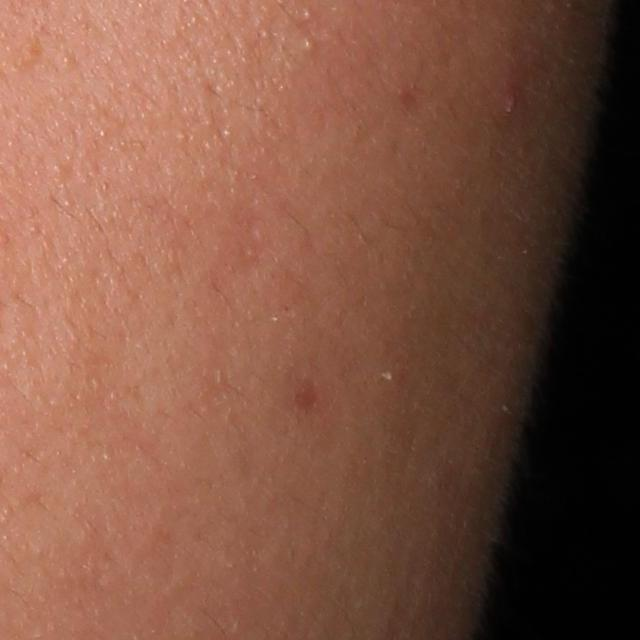comedo: (297, 32, 320, 55)
papule: (494, 89, 520, 127)
